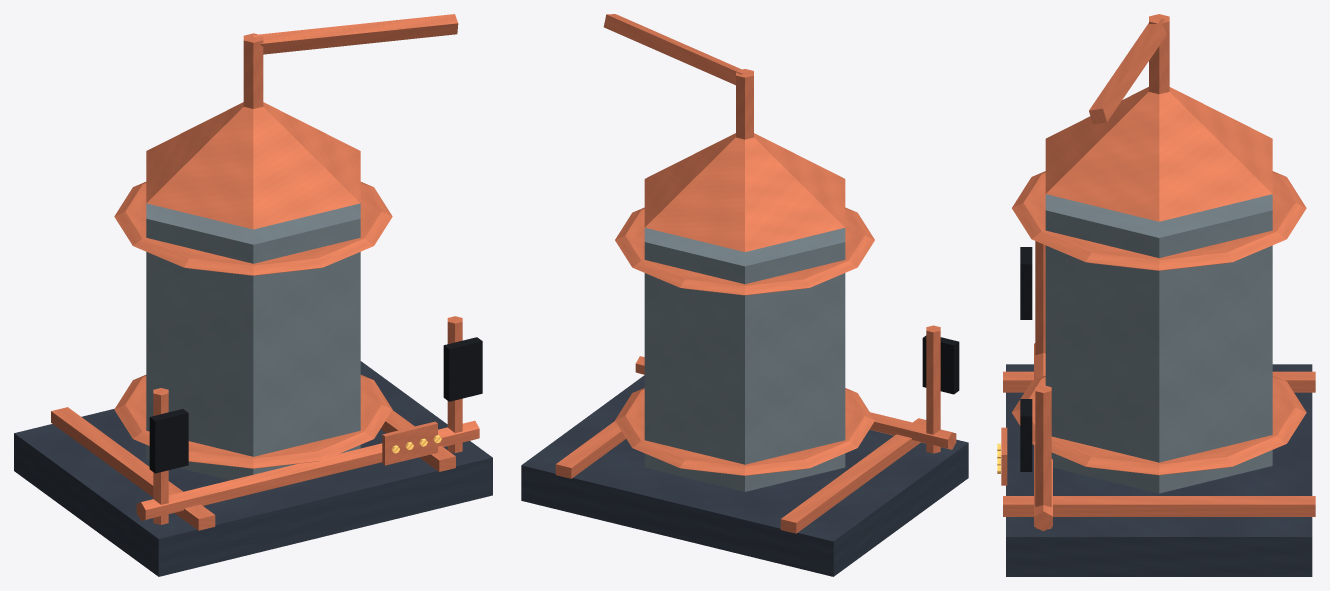
File: atlas100-s029-a02.glb
3 renders of one model, left to right at view 1: azimuth 30°, elevation 25°; view 2: azimuth 150°, elevation 25°; view 3: azimuth 270°, elevation 25°, orthographic. The views are drawn at different scales.
Visible parts, largest first — view 1: atlas100-s029-a02:part-003, atlas100-s029-a02:part-000, atlas100-s029-a02:part-007, atlas100-s029-a02:part-005, atlas100-s029-a02:part-004, atlas100-s029-a02:part-014, atlas100-s029-a02:part-009, atlas100-s029-a02:part-001, atlas100-s029-a02:part-011, atlas100-s029-a02:part-013, atlas100-s029-a02:part-015, atlas100-s029-a02:part-008 (+3 smaller); view 2: atlas100-s029-a02:part-003, atlas100-s029-a02:part-000, atlas100-s029-a02:part-007, atlas100-s029-a02:part-004, atlas100-s029-a02:part-005, atlas100-s029-a02:part-001, atlas100-s029-a02:part-009, atlas100-s029-a02:part-010, atlas100-s029-a02:part-002, atlas100-s029-a02:part-014, atlas100-s029-a02:part-011, atlas100-s029-a02:part-008; view 3: atlas100-s029-a02:part-003, atlas100-s029-a02:part-000, atlas100-s029-a02:part-007, atlas100-s029-a02:part-005, atlas100-s029-a02:part-004, atlas100-s029-a02:part-002, atlas100-s029-a02:part-009, atlas100-s029-a02:part-012, atlas100-s029-a02:part-001, atlas100-s029-a02:part-008, atlas100-s029-a02:part-010, atlas100-s029-a02:part-014 (+3 smaller).
Boxes of the visible parts, x1,y1,x2,y2 form: atlas100-s029-a02:part-003: (146,203,360,480); atlas100-s029-a02:part-000: (14,361,492,576); atlas100-s029-a02:part-007: (146,102,360,229); atlas100-s029-a02:part-005: (114,182,392,275); atlas100-s029-a02:part-004: (114,375,392,468); atlas100-s029-a02:part-014: (136,420,479,520); atlas100-s029-a02:part-009: (252,14,458,54); atlas100-s029-a02:part-001: (51,407,215,530); atlas100-s029-a02:part-011: (149,409,188,473); atlas100-s029-a02:part-013: (443,337,482,401); atlas100-s029-a02:part-015: (382,421,437,465); atlas100-s029-a02:part-008: (243,33,263,108); atlas100-s029-a02:part-003: (644,228,845,491); atlas100-s029-a02:part-000: (521,375,968,576); atlas100-s029-a02:part-007: (644,133,845,251); atlas100-s029-a02:part-004: (615,388,874,475); atlas100-s029-a02:part-005: (615,207,874,295); atlas100-s029-a02:part-001: (780,418,926,533); atlas100-s029-a02:part-009: (603,14,743,85); atlas100-s029-a02:part-010: (926,325,940,453); atlas100-s029-a02:part-002: (555,421,626,478); atlas100-s029-a02:part-014: (635,356,956,449); atlas100-s029-a02:part-011: (922,335,959,394); atlas100-s029-a02:part-008: (736,69,753,139); atlas100-s029-a02:part-003: (1045,194,1272,493); atlas100-s029-a02:part-000: (1006,364,1312,576); atlas100-s029-a02:part-007: (1045,87,1272,221); atlas100-s029-a02:part-005: (1012,171,1306,270); atlas100-s029-a02:part-004: (1012,375,1306,475); atlas100-s029-a02:part-002: (1003,496,1315,516); atlas100-s029-a02:part-009: (1089,19,1166,124); atlas100-s029-a02:part-012: (1035,385,1051,529); atlas100-s029-a02:part-001: (1003,371,1315,392); atlas100-s029-a02:part-008: (1149,14,1169,94); atlas100-s029-a02:part-010: (1035,241,1045,354); atlas100-s029-a02:part-014: (1034,343,1052,531).
Size of the model in its own units: 2.46 by 3.06 by 1.87.
5 materials, 5 textured.
